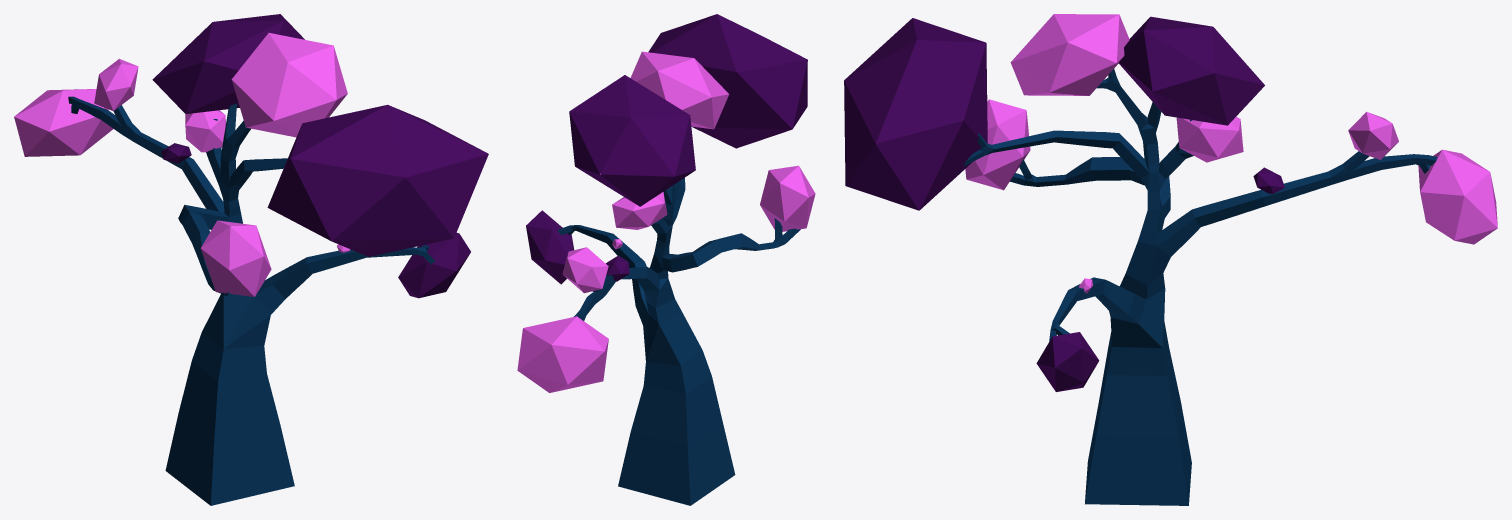
The model's file is tree2.fbx.
3 renders of one model, left to right at view 1: azimuth 30°, elevation 25°; view 2: azimuth 150°, elevation 25°; view 3: azimuth 270°, elevation 25°, orthographic. The views are drawn at different scales.
Parts seen in each view (by area): view 1: Cube; view 2: Cube; view 3: Cube.
Boxes of the visible parts, <box> form: Cube: <box>14,14,488,505</box>; Cube: <box>517,14,815,505</box>; Cube: <box>844,14,1497,505</box>.
Size of the model in its own units: 525 by 766 by 934.
